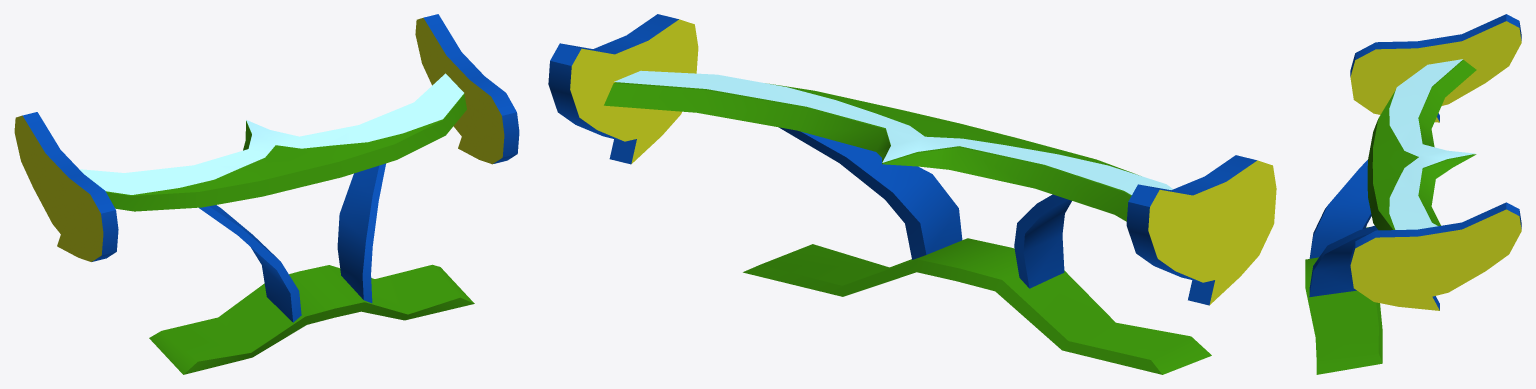
Rendered from LuxSpoiler02E01.gltf.
3 views of the same model, side by side, from view 1: azimuth 30°, elevation 25°; view 2: azimuth 150°, elevation 25°; view 3: azimuth 270°, elevation 25° (orthographic). The views are drawn at different scales.
Parts seen in each view (by area): view 1: LuxSpoiler02E01; view 2: LuxSpoiler02E01; view 3: LuxSpoiler02E01.
Part boxes in pixels (x1,y1,x2,y2): LuxSpoiler02E01: [14, 14, 519, 374]; LuxSpoiler02E01: [548, 14, 1276, 374]; LuxSpoiler02E01: [1305, 14, 1521, 374].
Size of the model in its own units: 0.1732 by 0.0806 by 0.0811.
1 material, 1 textured.
